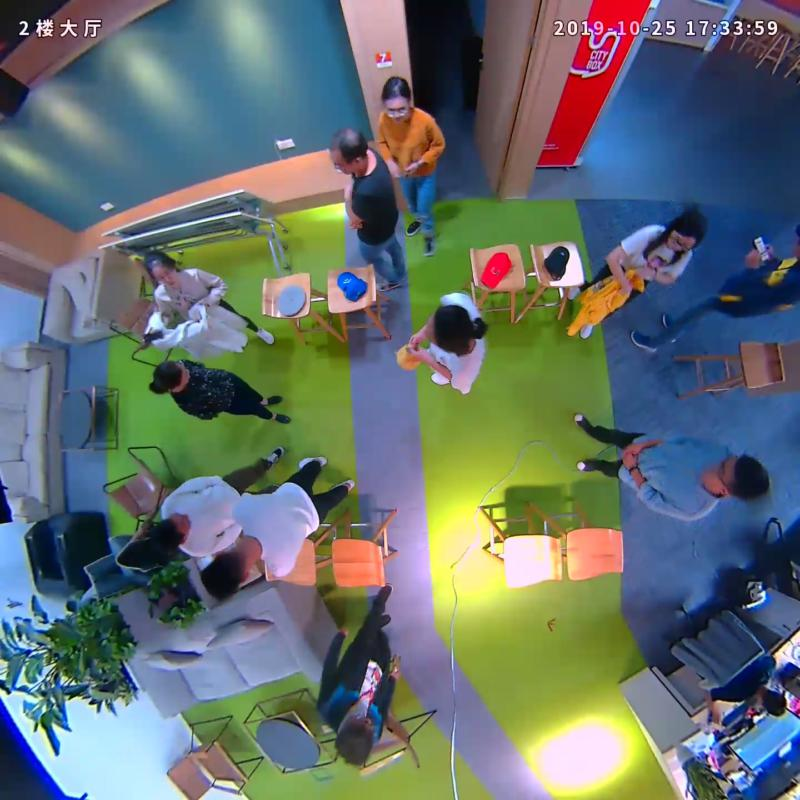head: (702, 454, 770, 501), (200, 549, 251, 599), (423, 304, 473, 354), (334, 713, 375, 767), (329, 128, 368, 175), (665, 209, 705, 252), (142, 249, 180, 289), (152, 512, 193, 548), (381, 76, 411, 122), (153, 361, 190, 392)
